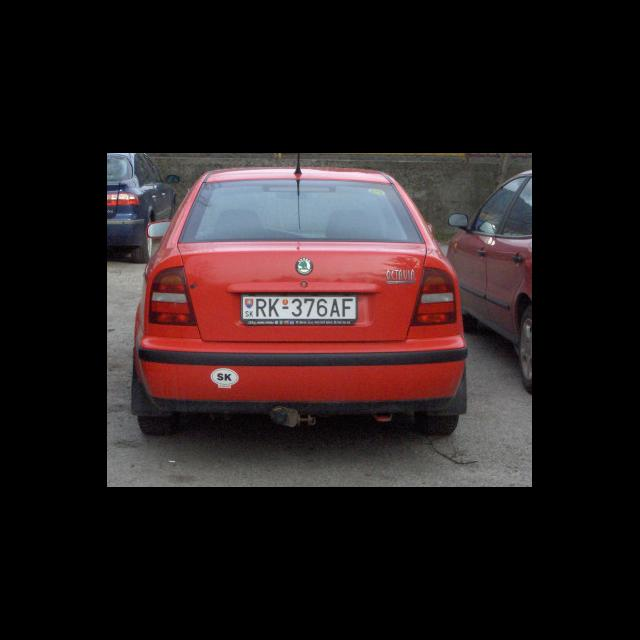Plate: (240, 291, 358, 325)
